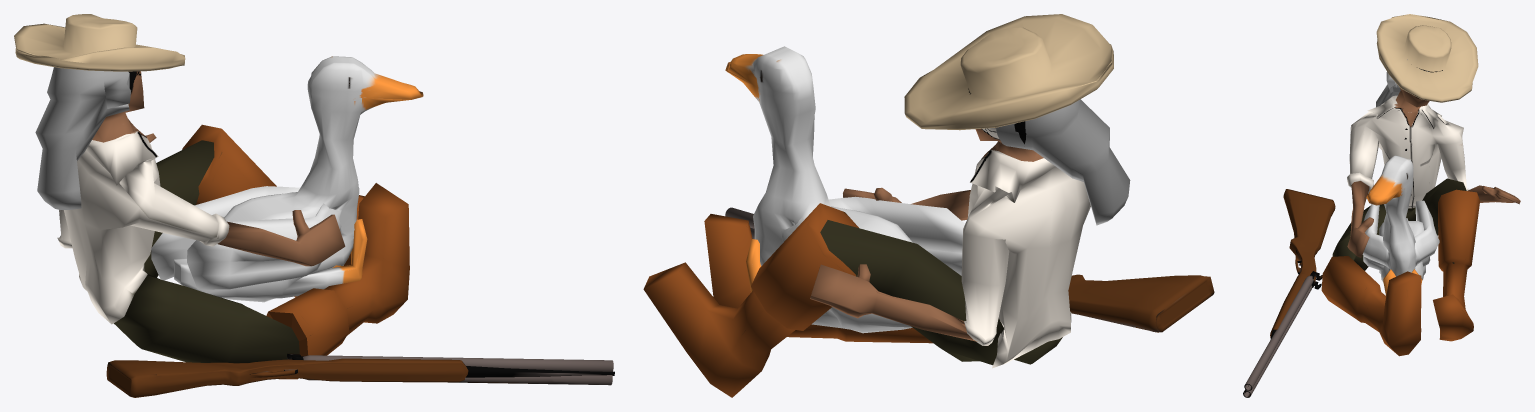
The model's file is bowmari_7.obj.
3 renders of one model, left to right at view 1: azimuth 30°, elevation 25°; view 2: azimuth 150°, elevation 25°; view 3: azimuth 270°, elevation 25°, orthographic. The views are drawn at different scales.
Parts seen in each view (by area): view 1: Default_Body_Cube, Cube.005, SHOTGUN_Cube.007, Hair_Cube.004, Hat_Cylinder; view 2: Default_Body_Cube, Cube.005, Hat_Cylinder, Hair_Cube.004, SHOTGUN_Cube.007; view 3: Default_Body_Cube, Hat_Cylinder, Cube.005, SHOTGUN_Cube.007, Hair_Cube.004.
Part boxes in pixels (bbox=[...]): Default_Body_Cube: bbox=[57, 71, 409, 379]; Cube.005: bbox=[151, 56, 423, 302]; SHOTGUN_Cube.007: bbox=[106, 353, 614, 397]; Hair_Cube.004: bbox=[35, 67, 130, 209]; Hat_Cylinder: bbox=[14, 14, 185, 71]; Default_Body_Cube: bbox=[643, 121, 1090, 397]; Cube.005: bbox=[725, 46, 964, 333]; Hat_Cylinder: bbox=[904, 14, 1113, 130]; Hair_Cube.004: bbox=[996, 99, 1130, 225]; SHOTGUN_Cube.007: bbox=[725, 207, 1214, 332]; Default_Body_Cube: bbox=[1321, 71, 1520, 356]; Hat_Cylinder: bbox=[1376, 14, 1478, 102]; Cube.005: bbox=[1362, 155, 1439, 295]; SHOTGUN_Cube.007: bbox=[1243, 189, 1335, 397]; Hair_Cube.004: bbox=[1376, 59, 1407, 107].
Size of the model in its own units: 6.86 by 5.15 by 5.35.
